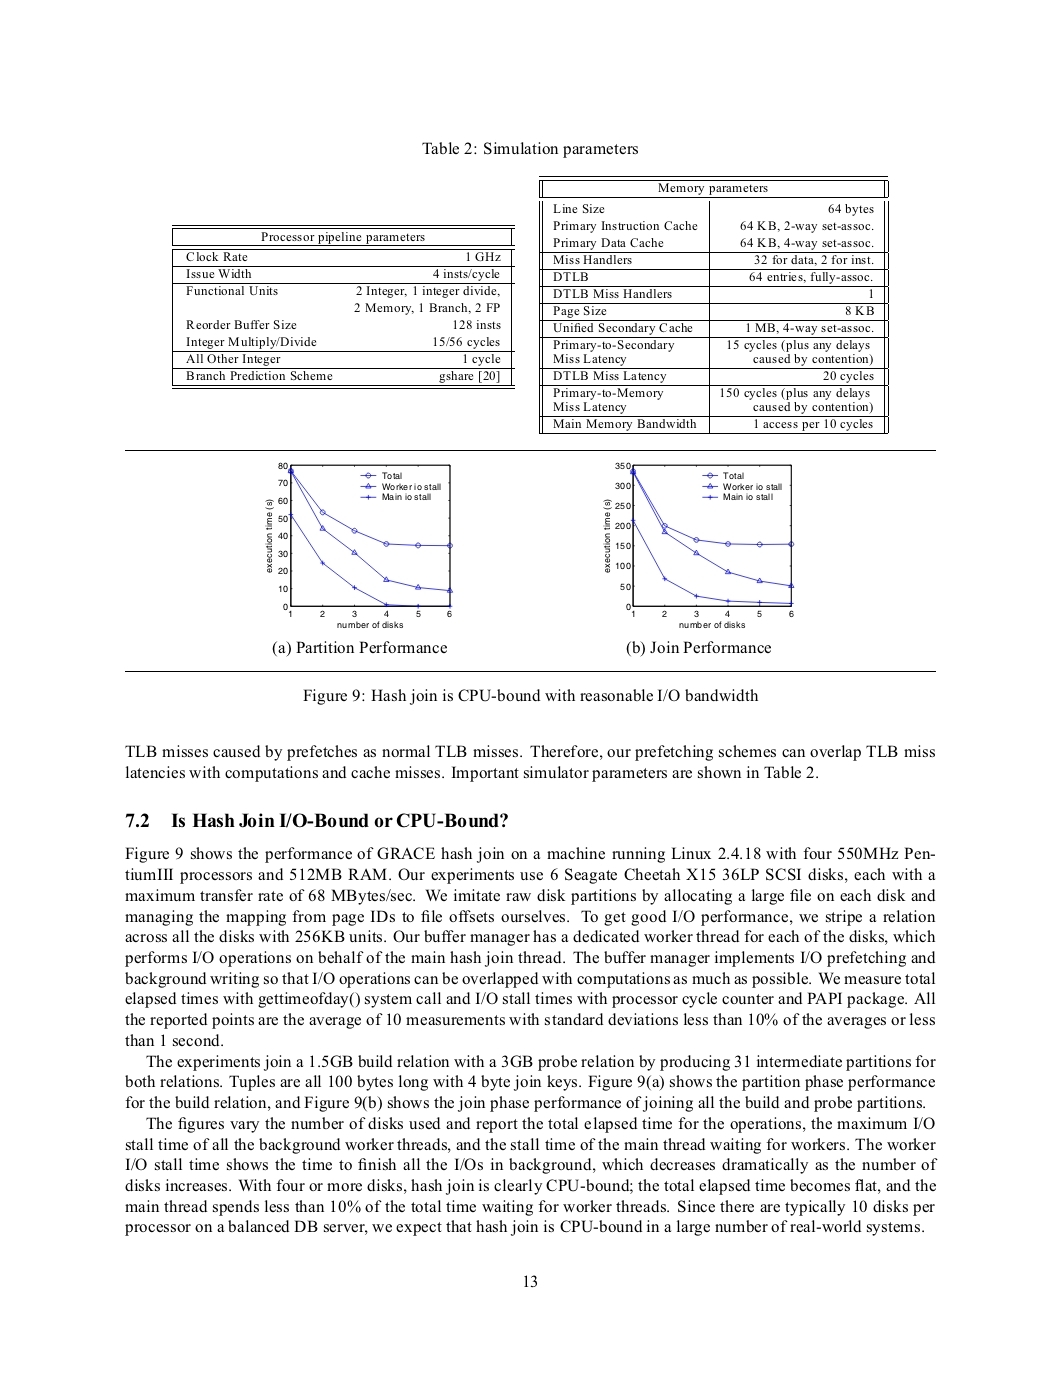Table: (539, 179, 888, 434), (172, 224, 514, 389)
figure: (603, 462, 794, 629), (265, 462, 452, 629)
